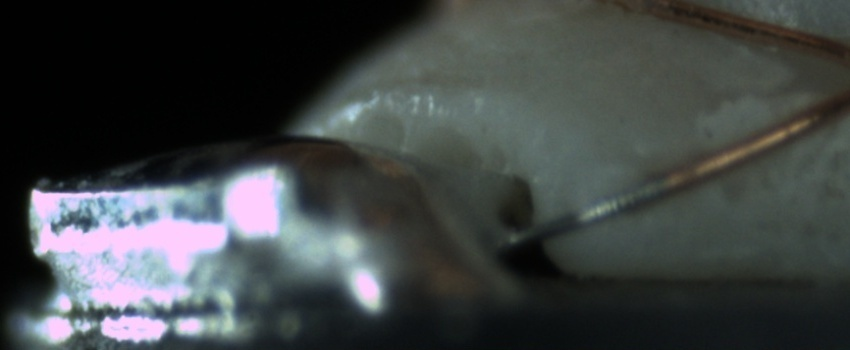TS: (497, 176, 660, 247)
